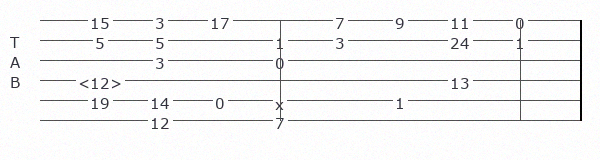0: (215, 93, 229, 108), (275, 53, 289, 68), (515, 13, 529, 28)
1: (275, 33, 289, 48), (395, 93, 409, 108), (515, 33, 529, 48)
11: (450, 13, 474, 28)
12: (150, 113, 174, 128)
13: (450, 73, 474, 88)
14: (150, 93, 174, 108)
15: (90, 13, 114, 28)
17: (210, 13, 234, 28)
19: (90, 93, 114, 108)
24: (450, 33, 474, 48)
3: (155, 53, 169, 68), (155, 13, 169, 28), (335, 33, 349, 48)
5: (95, 33, 109, 48), (155, 33, 169, 48)
7: (275, 113, 289, 128), (335, 13, 349, 28)
9: (395, 13, 409, 28)
harmonic: (78, 73, 126, 88)
x: (275, 94, 288, 106)
